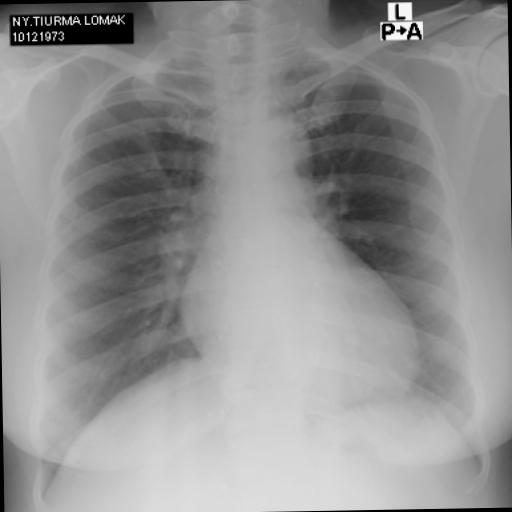kardiomegali: (172, 216, 430, 418)
